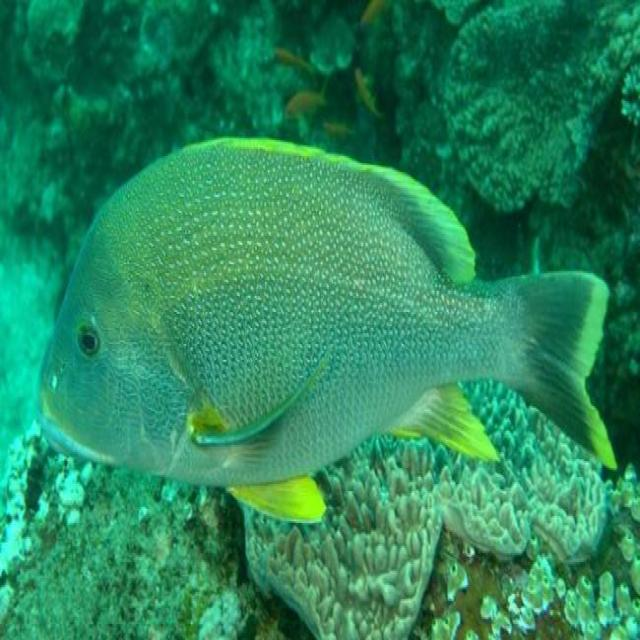ikan: (35, 133, 618, 525)
